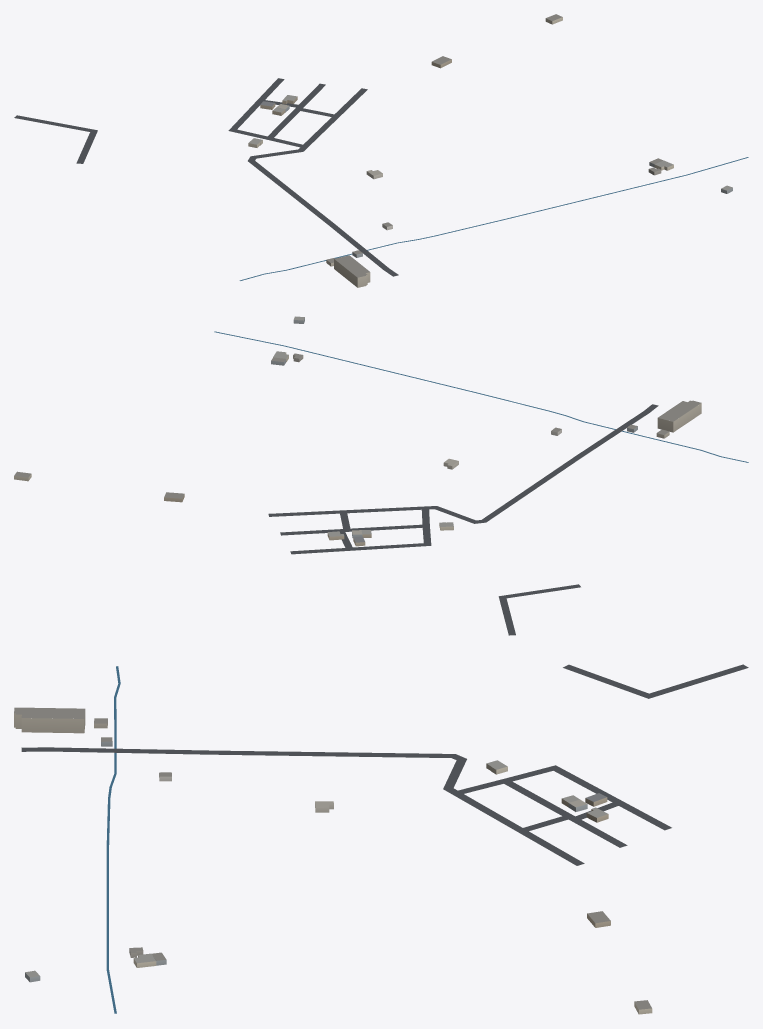
3 views of the same model, one above another, from view 1: azimuth 30°, elevation 25°; view 2: azimuth 150°, elevation 25°; view 3: azimuth 270°, elevation 25° (orthographic). The views are drawn at different scales.
Parts seen in each view (by area): view 1: roads, buildings_walls, buildings_roofs, water; view 2: roads, buildings_walls, buildings_roofs, water; view 3: roads, buildings_walls, buildings_roofs, water.
Part boxes in pixels (x1,y1,x2,y2): roads: (14, 78, 398, 276); buildings_walls: (248, 17, 732, 287); buildings_roofs: (249, 14, 732, 277); water: (239, 157, 748, 280); roads: (268, 404, 658, 635); buildings_walls: (14, 318, 701, 546); buildings_roofs: (14, 316, 701, 542); water: (214, 331, 748, 462); roads: (21, 664, 748, 865); buildings_walls: (14, 711, 652, 1014); buildings_roofs: (14, 707, 651, 1009); water: (106, 666, 120, 1013).
Size of the model in its own units: 503 by 9.62 by 447.
